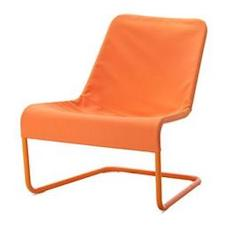chair: (9, 7, 214, 208)
